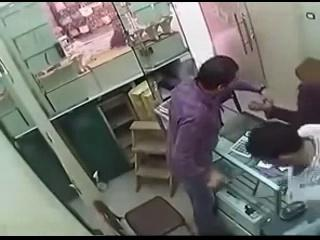Normal: (166, 55, 266, 234)
